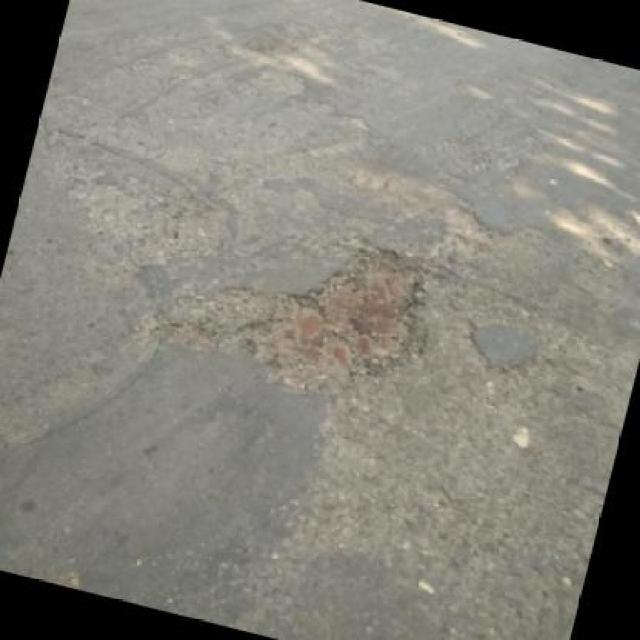pothole: (236, 213, 449, 416)
